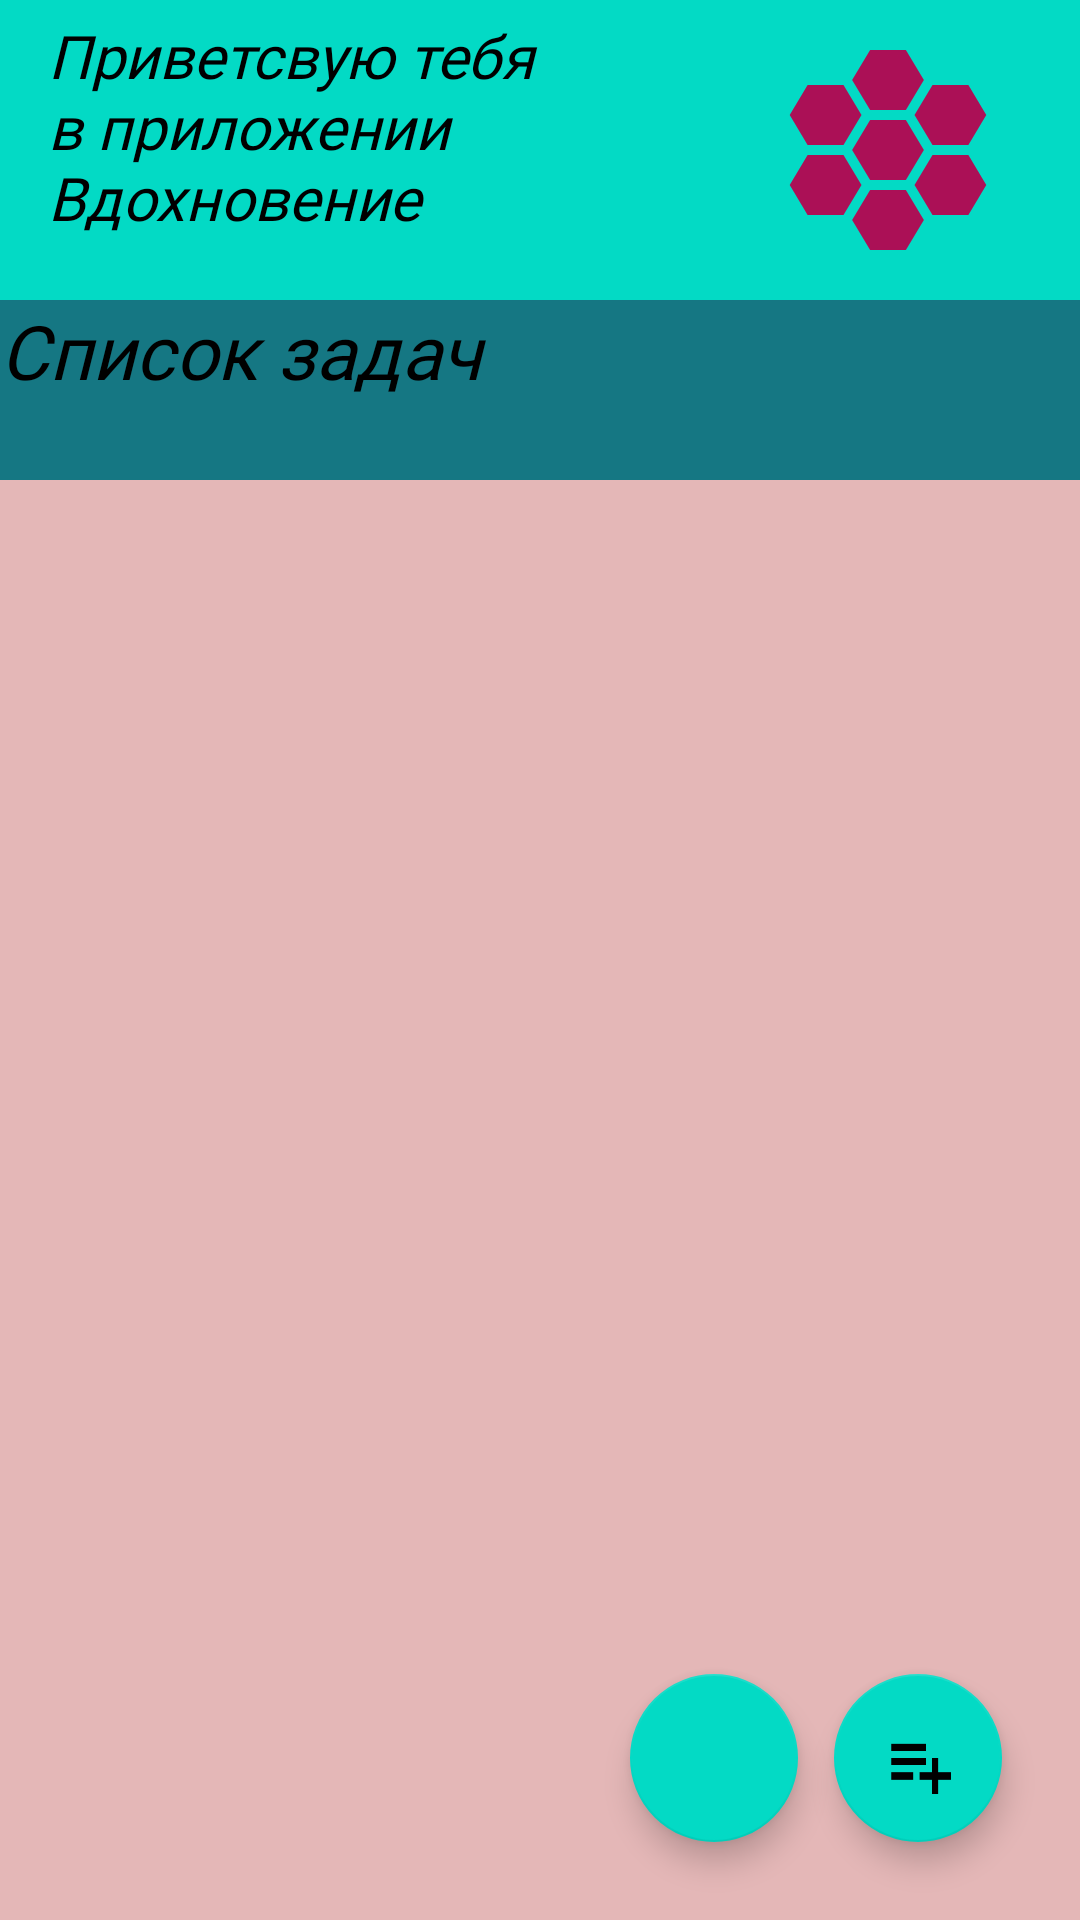

Icon click points for this 1080px x 1920px phone screenshot, format point (x, y):
hive: point (888, 150)
playlist add: point (918, 1758)
